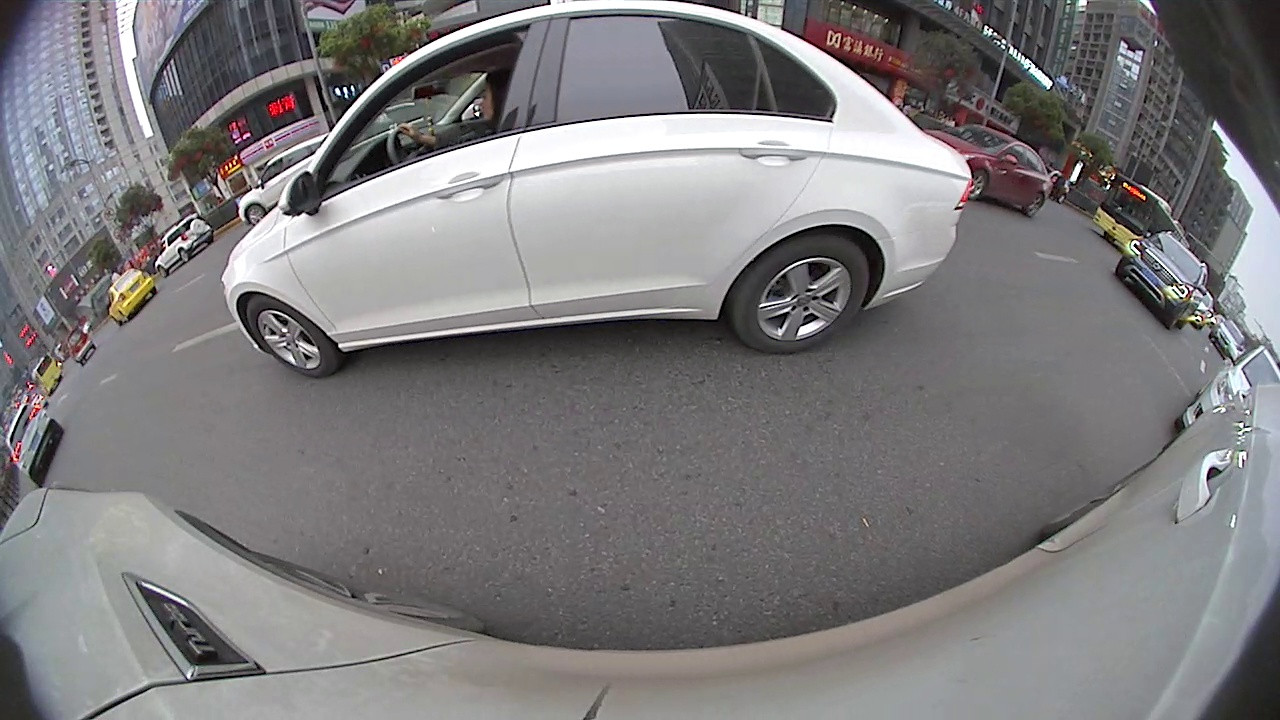bus: (1090, 171, 1192, 258)
car: (219, 1, 975, 382), (909, 120, 1053, 220), (1175, 334, 1279, 444), (1111, 228, 1211, 332), (234, 129, 337, 228), (1, 398, 68, 488), (151, 210, 214, 277), (102, 263, 159, 326)
front: (244, 290, 341, 379), (966, 169, 988, 201), (243, 202, 267, 227), (157, 265, 170, 280)
rear: (727, 235, 873, 357), (1025, 192, 1045, 219), (178, 248, 192, 265)
